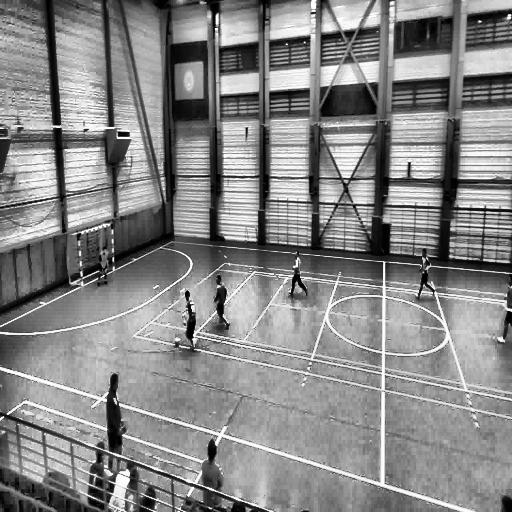ball: (174, 336, 180, 346)
player: (106, 378, 124, 468), (495, 271, 512, 346), (415, 248, 434, 299), (288, 250, 308, 297), (183, 290, 197, 350), (214, 274, 229, 329), (99, 245, 110, 286)
